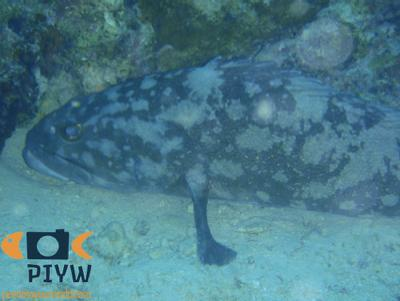Serranidae -Groupers-: (20, 62, 399, 268)
